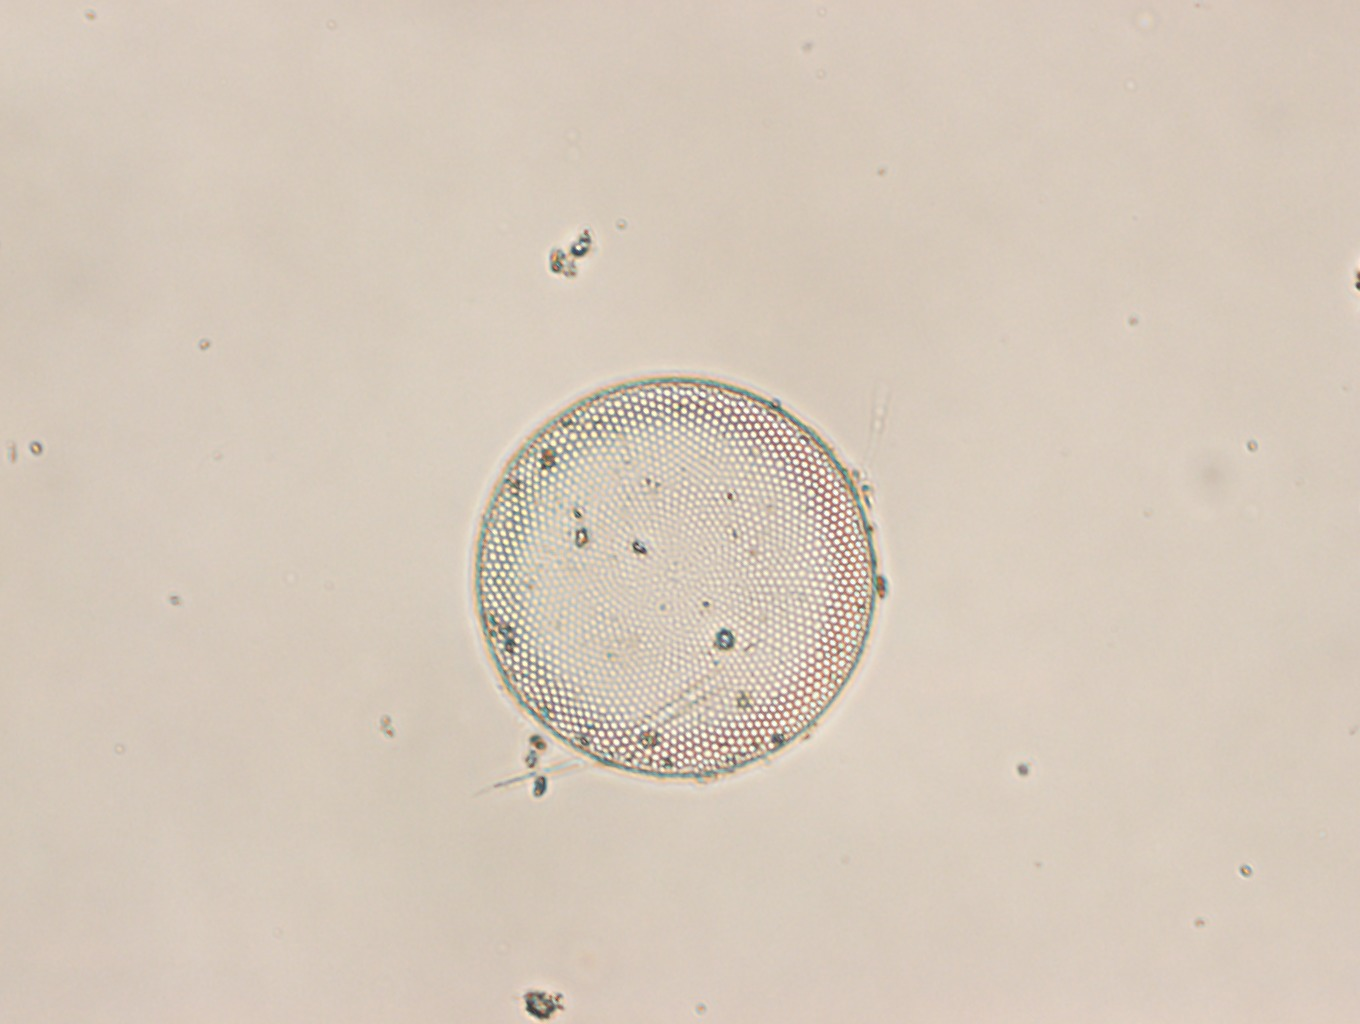coscinodiscus: (474, 373, 878, 776)
